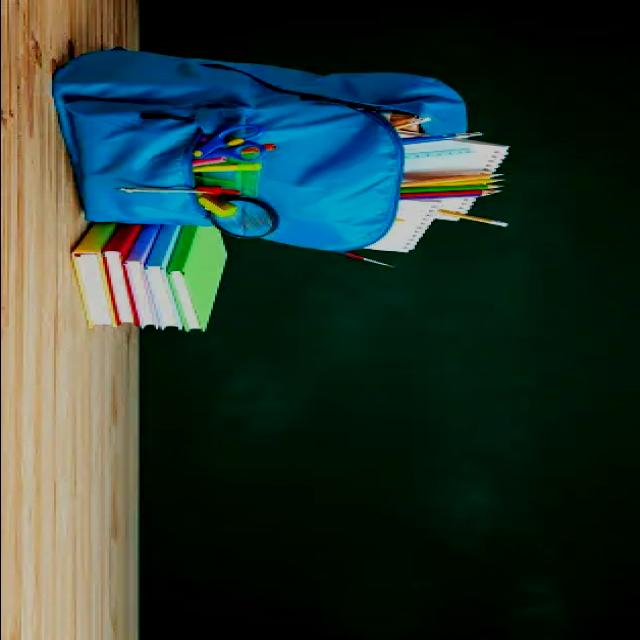backpack: (54, 48, 472, 256)
